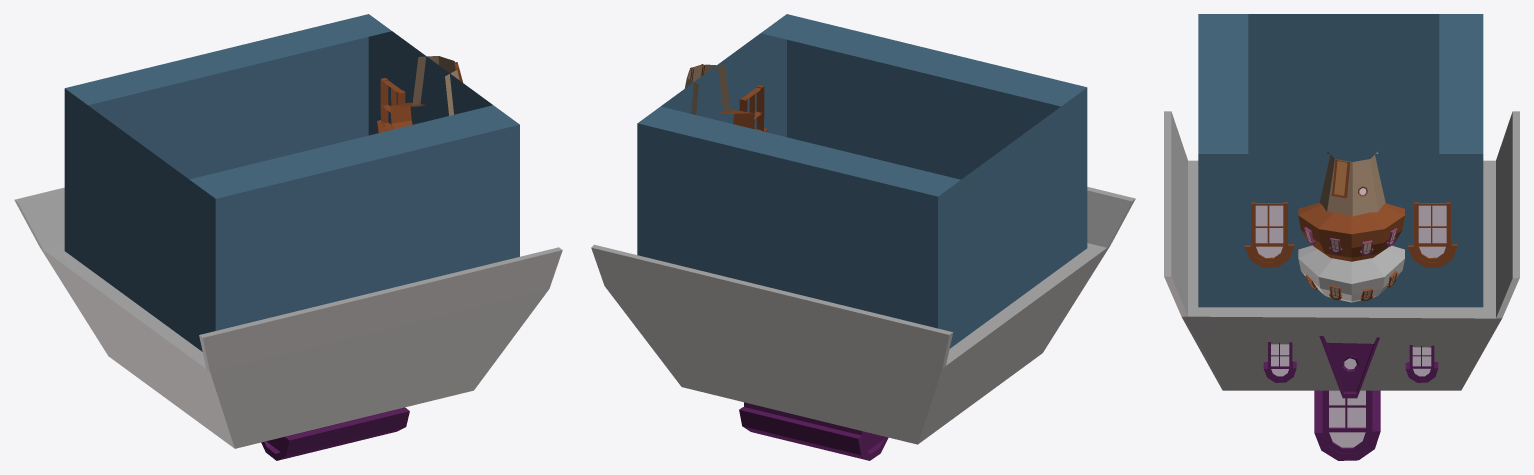
The model's file is building1.fbx.
The picture shows the model from 3 angles, left to right: view 1: azimuth 30°, elevation 25°; view 2: azimuth 150°, elevation 25°; view 3: azimuth 270°, elevation 25°; orthographic projection. The views are drawn at different scales.
Visible parts, largest first — view 1: polySurface715; view 2: polySurface715; view 3: polySurface715.
Boxes of the visible parts, x1,y1,x2,y2 form: polySurface715: (14, 14, 562, 460); polySurface715: (591, 14, 1135, 460); polySurface715: (1164, 14, 1519, 460).
Bounding box in the file's own units: 2.55 × 2.23 × 2.18.
